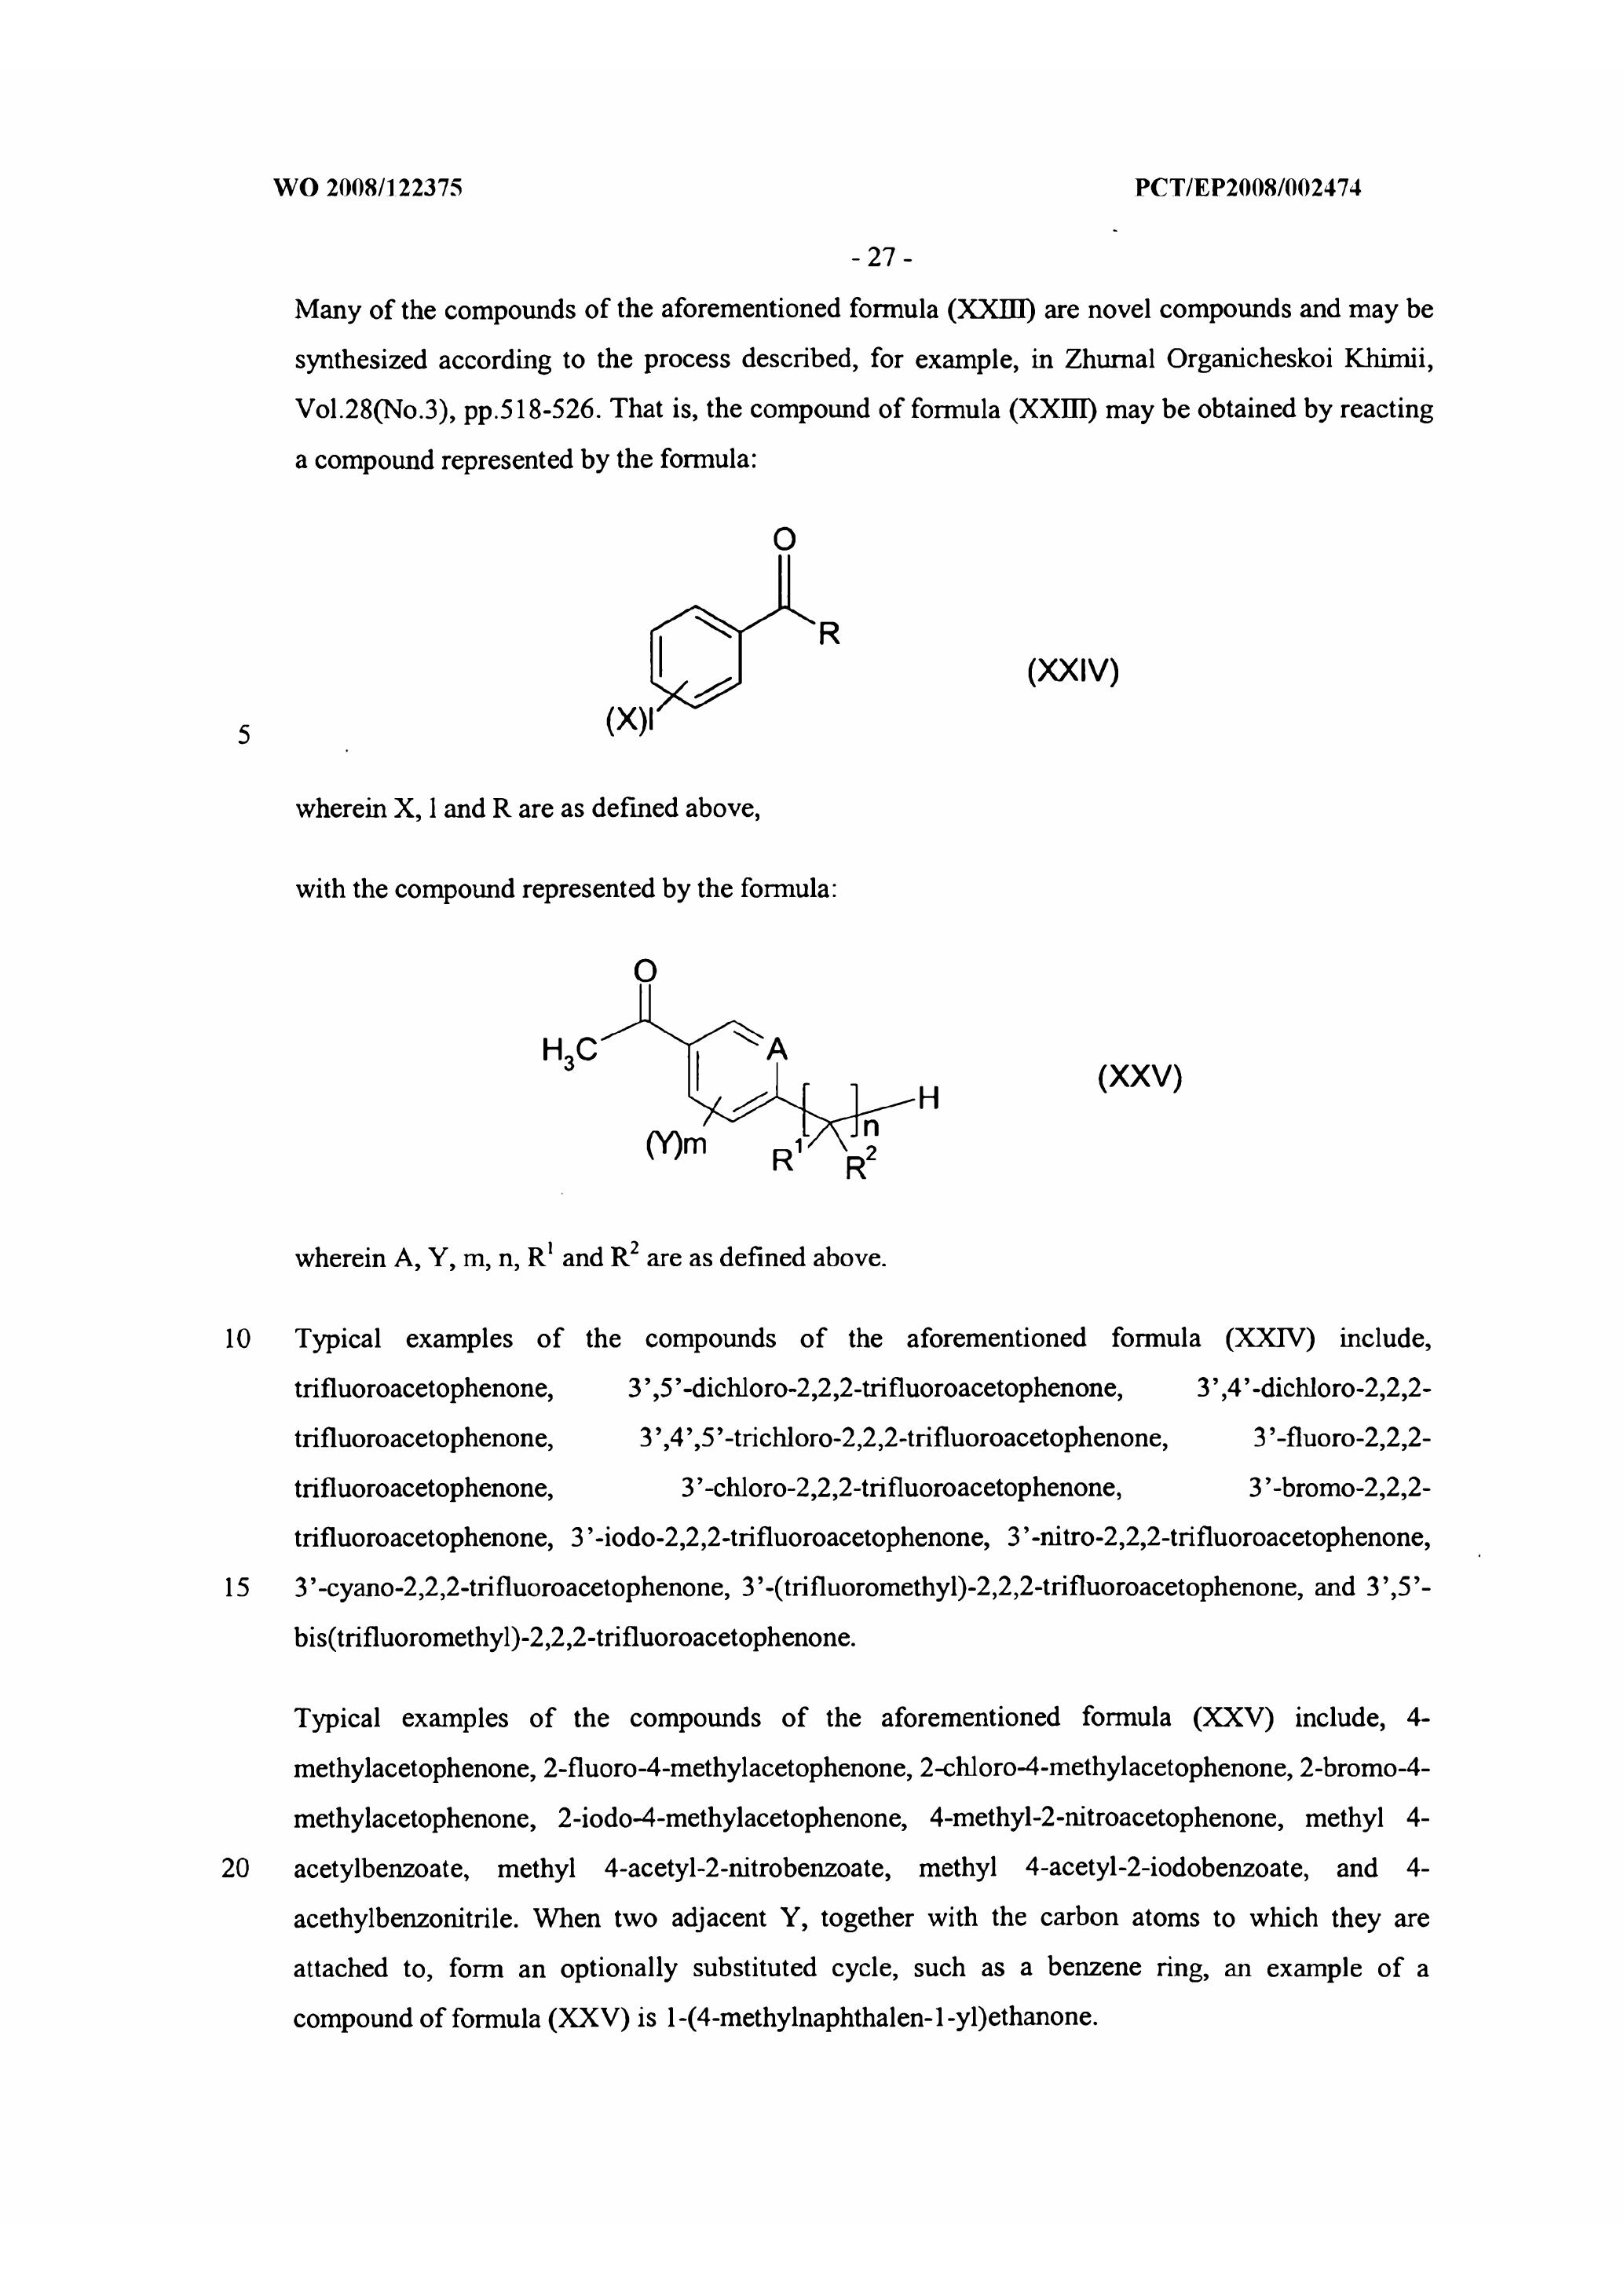reactions: (221, 522, 1387, 1282)
